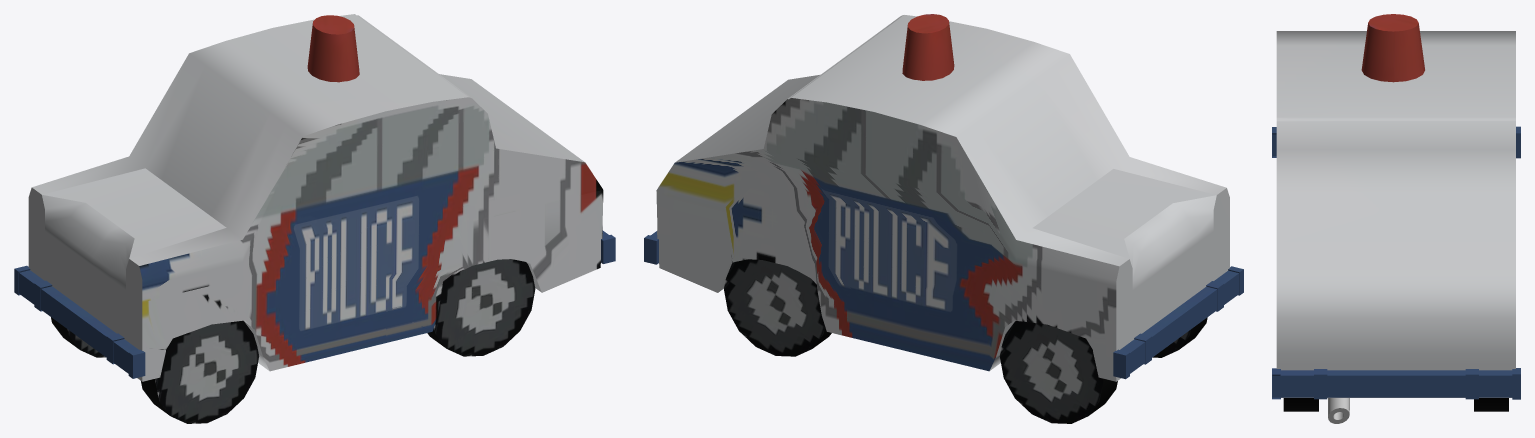
The model's file is policecar.fbx.
3 views of the same model, side by side, from view 1: azimuth 30°, elevation 25°; view 2: azimuth 150°, elevation 25°; view 3: azimuth 270°, elevation 25° (orthographic). The views are drawn at different scales.
Parts seen in each view (by area): view 1: car, wheel4, wheel5, bumper, siren; view 2: car, wheel6, wheel7, bumper, siren; view 3: car, bumper1, siren, exhaust, wheel5, wheel7, bumper.
Boxes of the visible parts, box(x1,y1,x2,y2) form: car: box(28, 14, 603, 381); wheel4: box(141, 320, 259, 423); wheel5: box(427, 259, 535, 356); bumper: box(14, 265, 145, 378); siren: box(307, 15, 359, 82); car: box(656, 15, 1229, 381); wheel6: box(999, 321, 1117, 423); wheel7: box(724, 259, 831, 356); bumper: box(1113, 266, 1243, 379); siren: box(902, 14, 954, 80); car: box(1276, 31, 1515, 397); bumper1: box(1272, 368, 1520, 399); siren: box(1361, 14, 1424, 82); exhaust: box(1328, 398, 1349, 423); wheel5: box(1283, 398, 1318, 411); wheel7: box(1474, 398, 1508, 411); bumper: box(1272, 126, 1520, 158).
Bounding box in the file's own units: 418 × 262 × 177.
